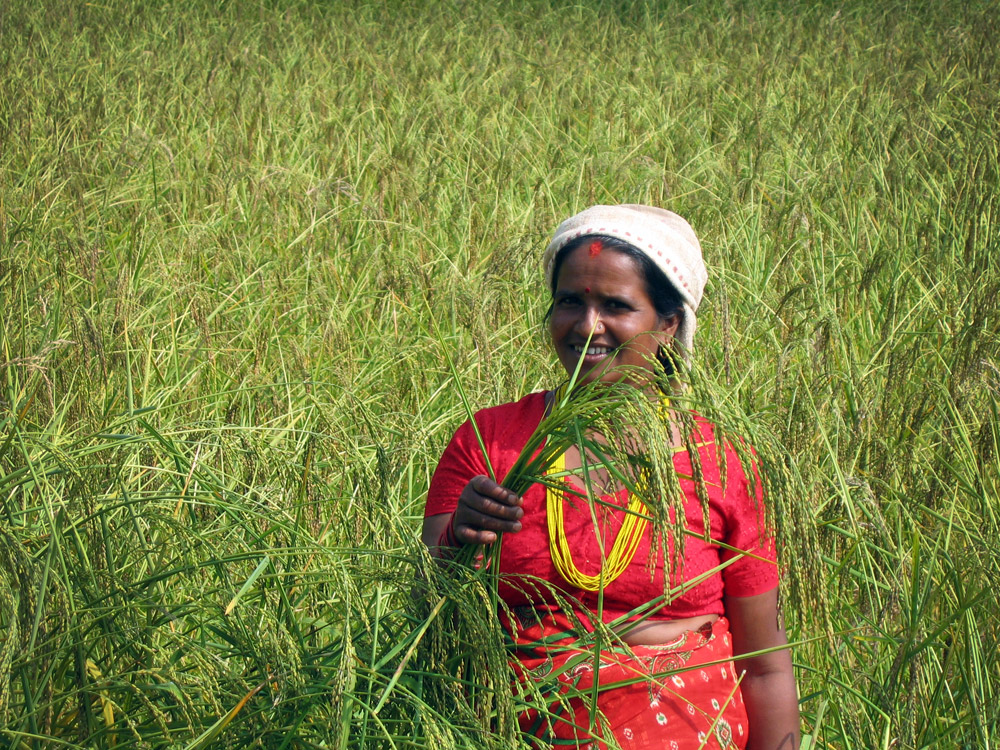human: (387, 198, 813, 750)
